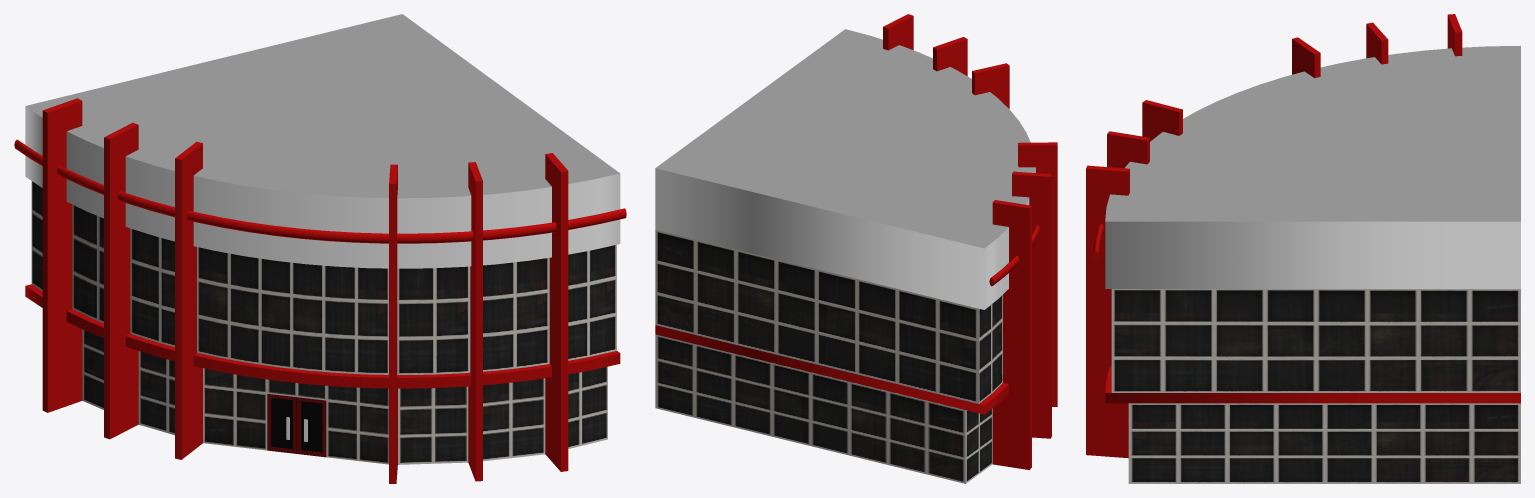
3 views of the same model, side by side, from view 1: azimuth 30°, elevation 25°; view 2: azimuth 150°, elevation 25°; view 3: azimuth 270°, elevation 25° (orthographic). The views are drawn at different scales.
Parts seen in each view (by area): view 1: EB-011; view 2: EB-011; view 3: EB-011.
Part boxes in pixels (x1,y1,x2,y2): EB-011: (14,14,626,483); EB-011: (655,14,1057,483); EB-011: (1086,14,1520,483).
Size of what is drawn, in the model's own units: 19.51 by 14.2 by 19.53.
